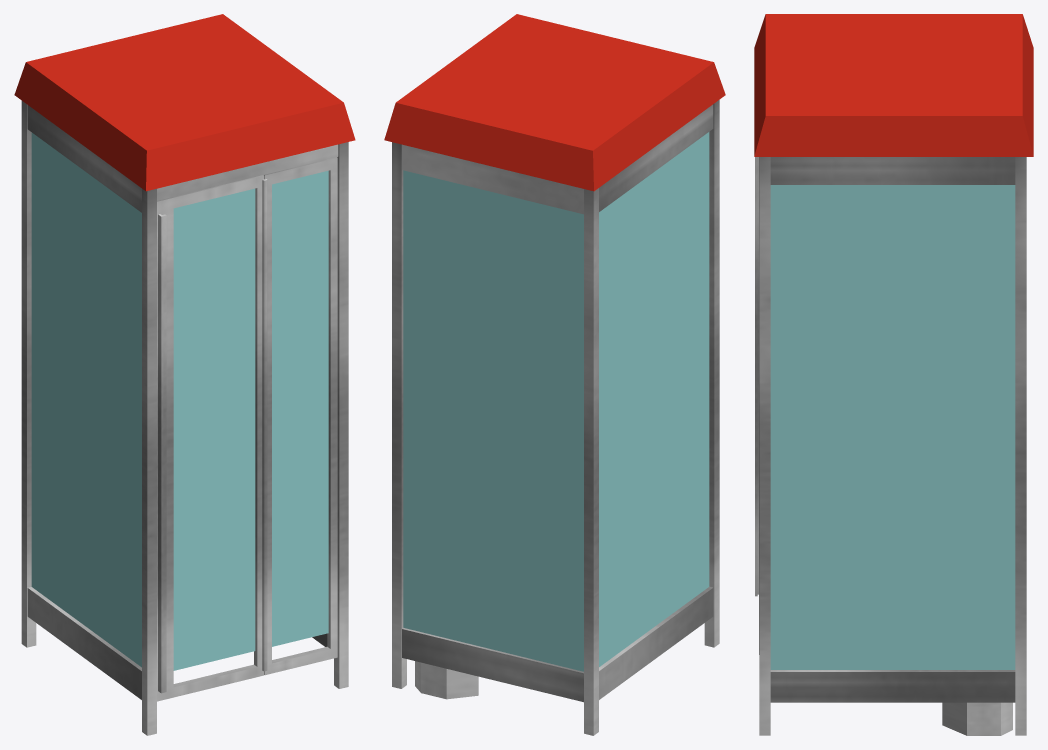
The model's file is Telephone_box.fbx.
3 renders of one model, left to right at view 1: azimuth 30°, elevation 25°; view 2: azimuth 150°, elevation 25°; view 3: azimuth 270°, elevation 25°, orthographic. The views are drawn at different scales.
Visible parts, largest first — view 1: Empty_Mesh; view 2: Empty_Mesh; view 3: Empty_Mesh.
Boxes of the visible parts, bbox=[...] form: Empty_Mesh: bbox=[14, 14, 355, 735]; Empty_Mesh: bbox=[384, 14, 725, 735]; Empty_Mesh: bbox=[754, 14, 1033, 735].
Size of the model in its own units: 0.914 by 2.45 by 0.9934.
